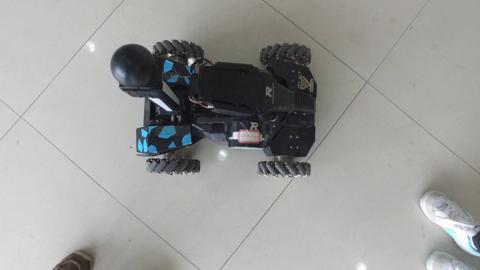chariot: (110, 32, 329, 182)
